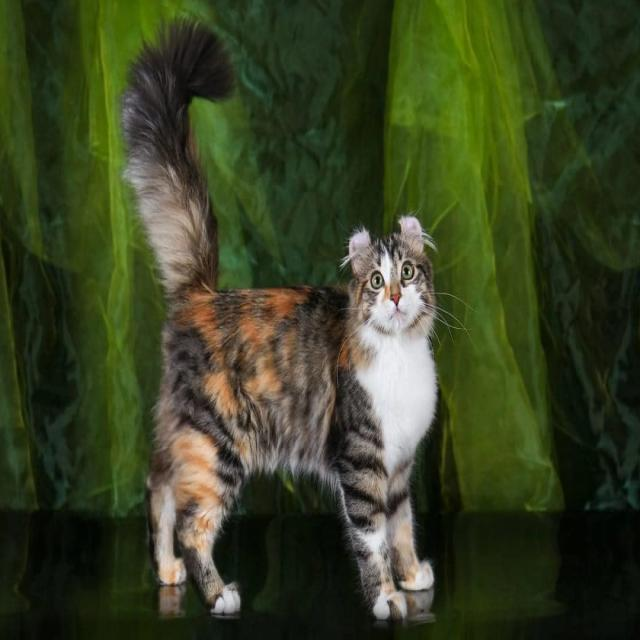American Curl: (115, 9, 445, 626)
